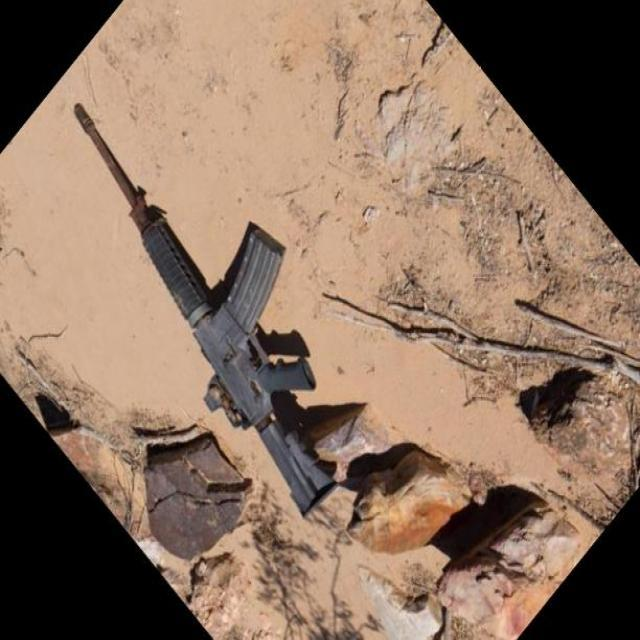weapon: (73, 102, 341, 518)
